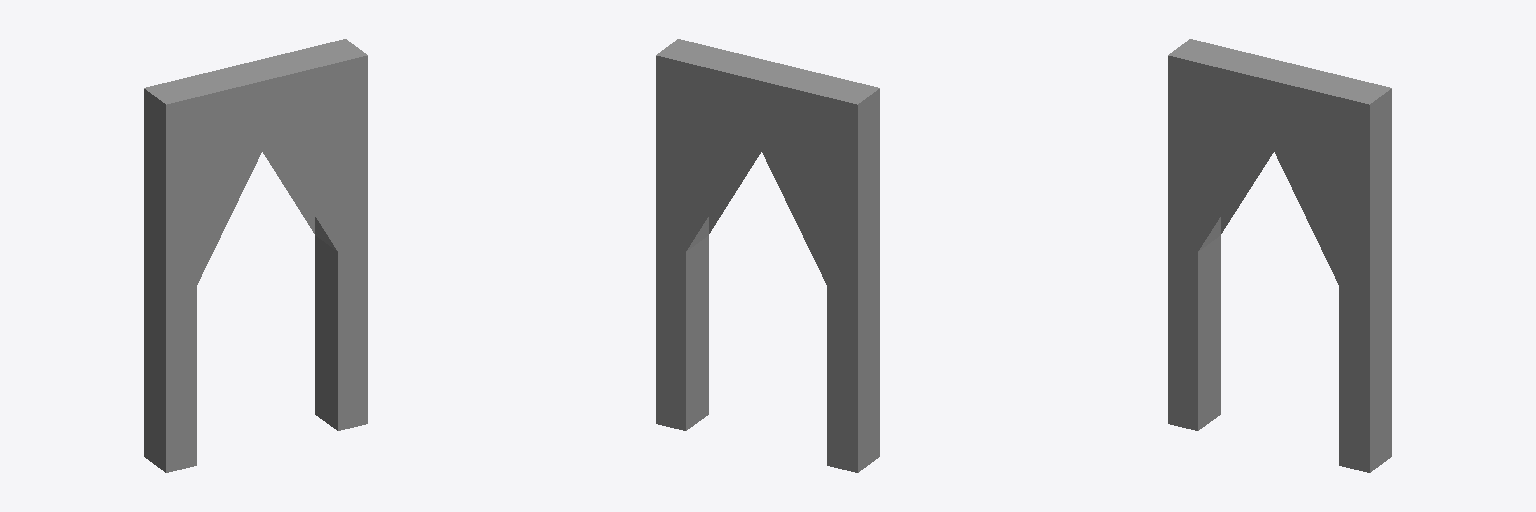
File: gate.obj
3 views of the same model, side by side, from view 1: azimuth 30°, elevation 25°; view 2: azimuth 150°, elevation 25°; view 3: azimuth 330°, elevation 25° (orthographic).
Parts seen in each view (by area): view 1: Brana_Cube; view 2: Brana_Cube; view 3: Brana_Cube.
Part boxes in pixels (left/top/right/bottom): Brana_Cube: left=144, top=39, right=367, bottom=472; Brana_Cube: left=656, top=39, right=879, bottom=472; Brana_Cube: left=1168, top=39, right=1391, bottom=472.
Bounding box in the file's own units: 2.58 × 4.5 × 0.5.